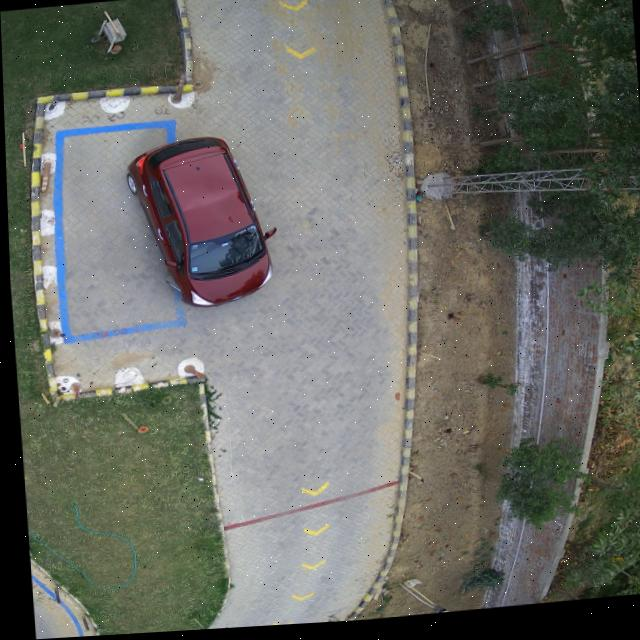car: (122, 138, 267, 310)
